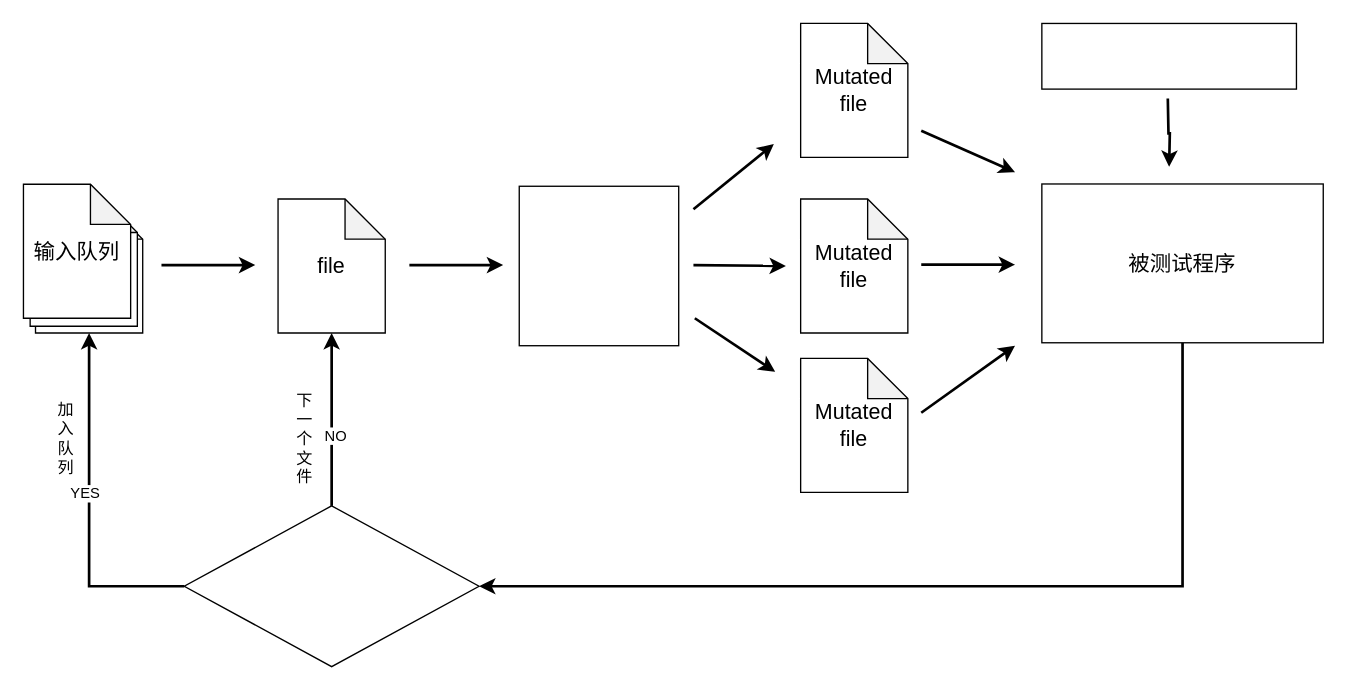
Some shapes in this 1347 by 690 pixel diagram are drawn without their labels. Each missing label, with the centre of its shape:
"文件变异" belongs at point 598,265.
"编译插桩（afl-gcc...）" belongs at point 1168,55.
"触发了新的执行路径" belongs at point 331,586.
